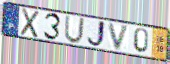0: (132, 28, 149, 55)
3: (41, 12, 63, 42)
J: (85, 19, 107, 49)
U: (63, 15, 86, 45)
V: (107, 22, 131, 52)
X: (19, 7, 41, 40)
